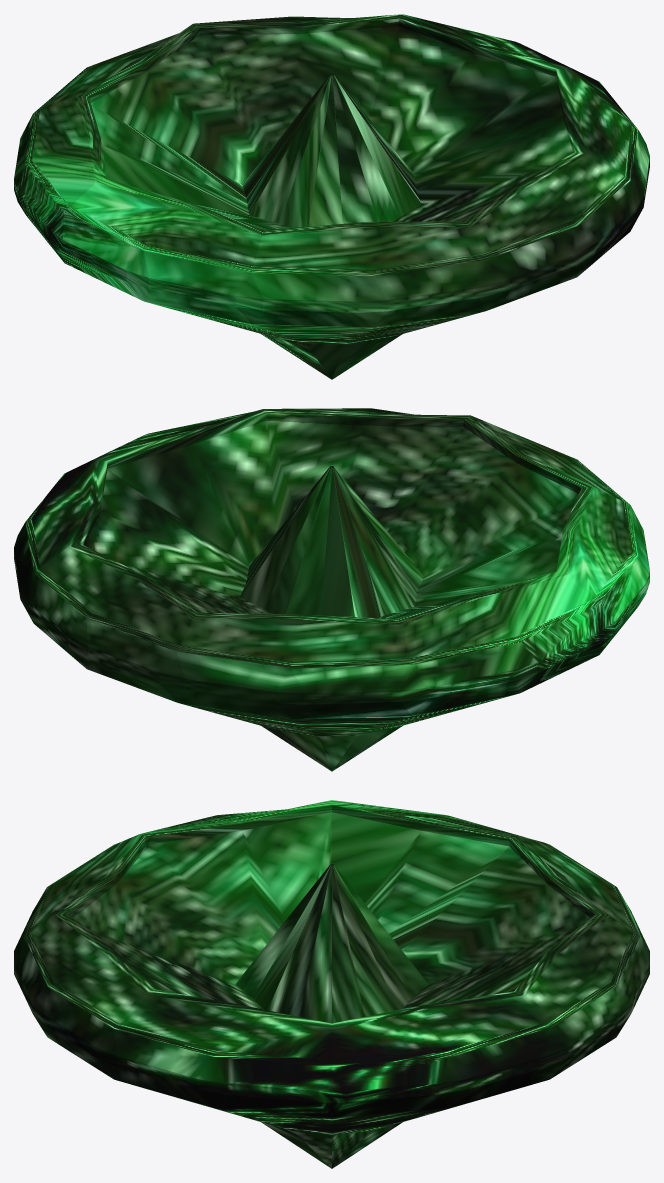
The model's file is This is Elon musk.obj.
3 renders of one model, top to bottom at view 1: azimuth 30°, elevation 25°; view 2: azimuth 150°, elevation 25°; view 3: azimuth 270°, elevation 25°, orthographic.
Visible parts, largest first — view 1: Circle; view 2: Circle; view 3: Circle.
Part boxes in pixels (box(x1,y1,x2,y2)): Circle: box(14, 14, 649, 379); Circle: box(14, 408, 649, 771); Circle: box(14, 800, 649, 1168).
Bounding box in the file's own units: 1.98 × 1.05 × 1.98.
1 material, 1 textured.
